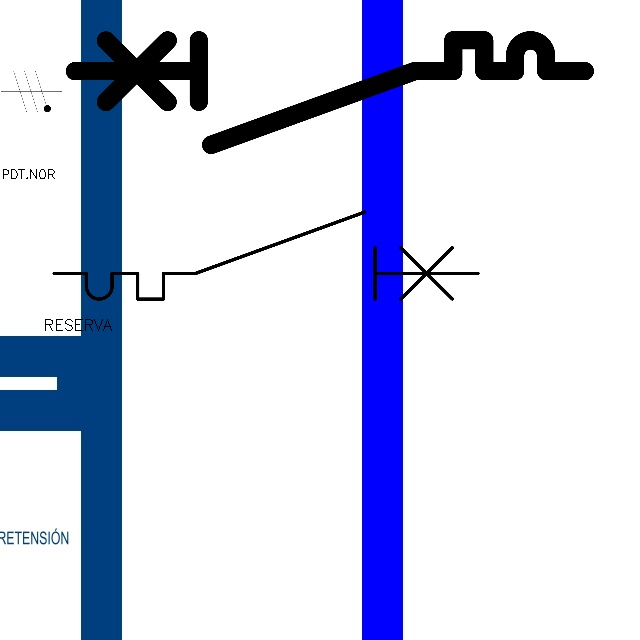interruptor_termomagnetico: (61, 27, 597, 158), (43, 201, 489, 310)
